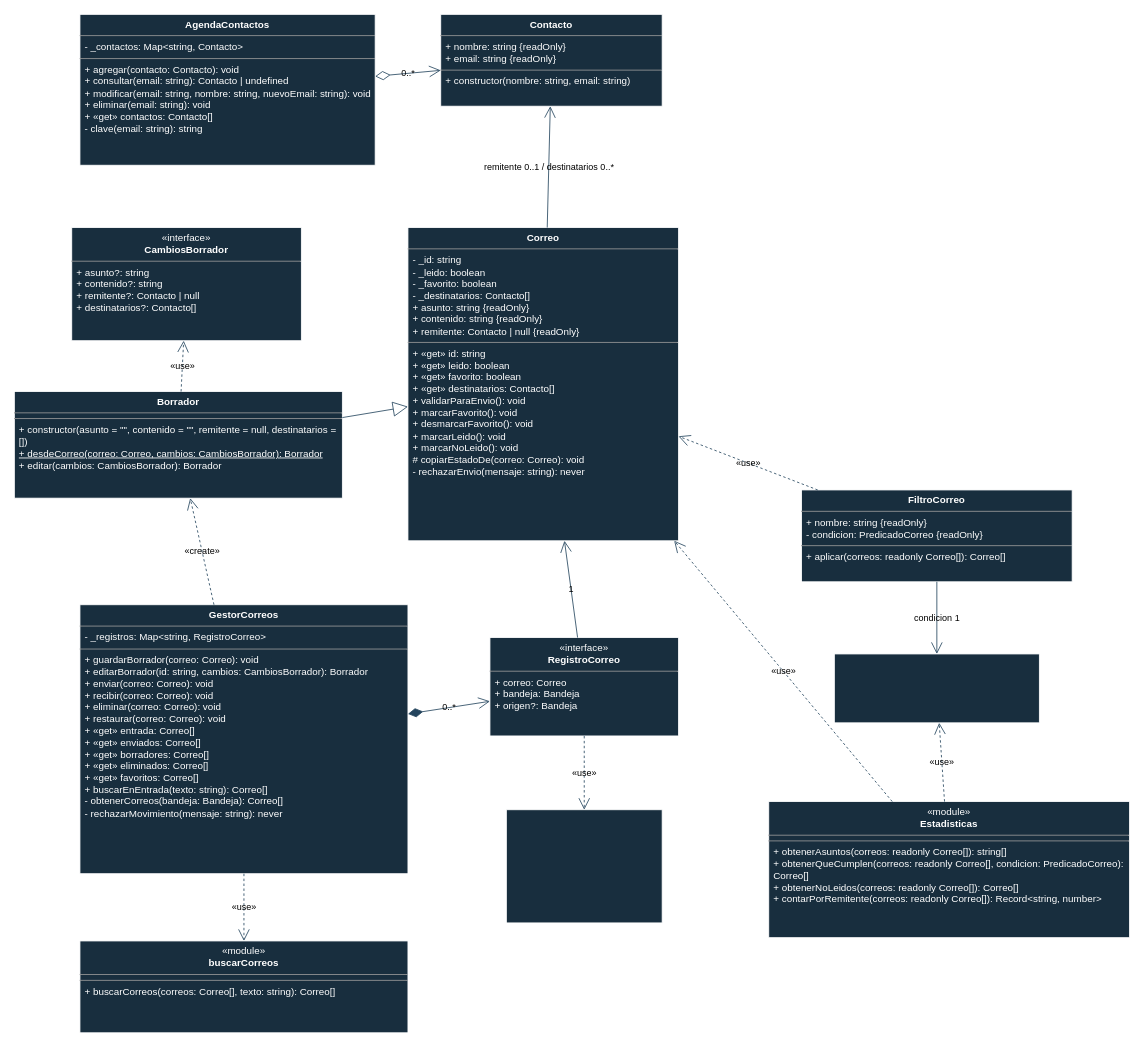
Image size: 1144x1047. Some labels were removed from this diagram. The shapes that lost their labels are listed below. From the top down, each one's centre as x and y in pixels, then its label:
At (x=936, y=688): "«type» PredicadoCorreo (correo: Correo) => boolean".
At (x=584, y=866): "«enumeration» Bandeja entrada borradores enviados eliminados".
